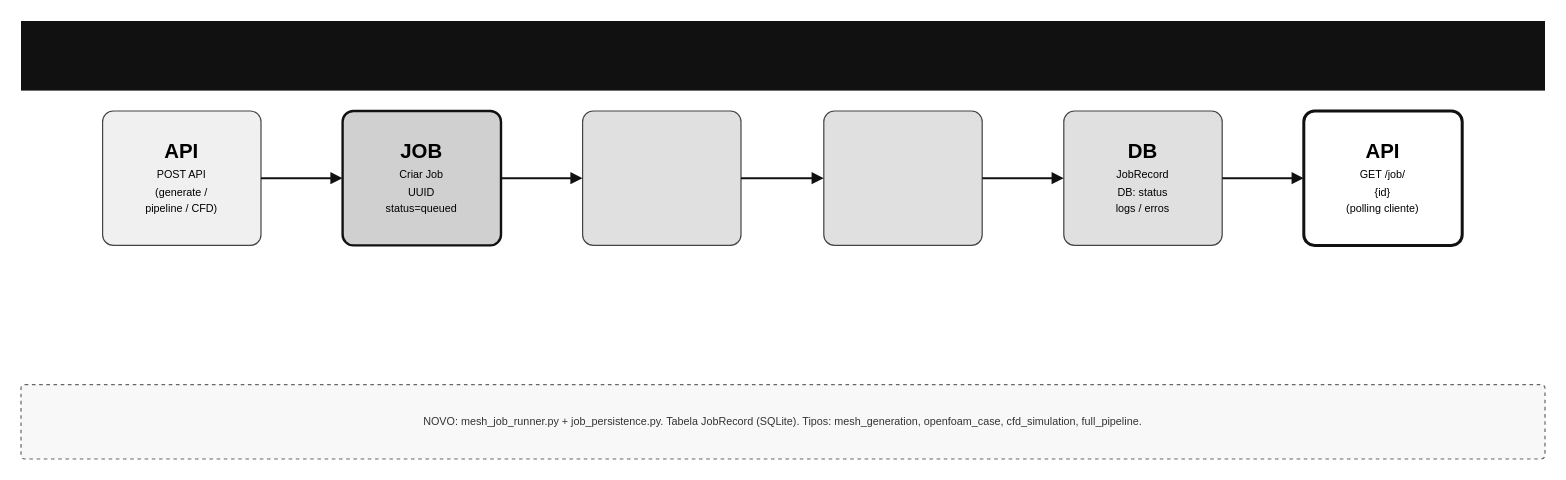
Some shapes in this 1566 by 480 pixel diagram are drawn without their labels. The centre of each missing label's shape, as x and y in pixels:
"[1] Fila unica _MESH_LOCK (1 job/vez)" belongs at [661,177].
"PY Exec bgtask progresso [bedflow N%]" belongs at [902,177].
"Sistema de Jobs Assincronos [NOVO]" belongs at [782,55].
